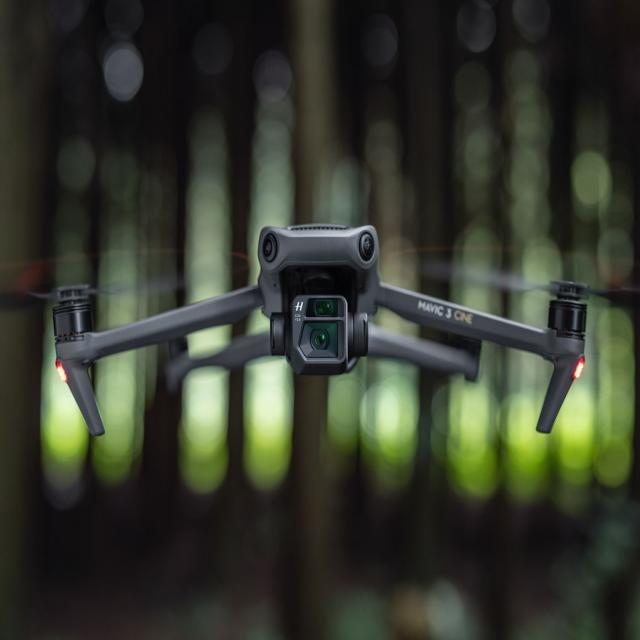drone: (41, 198, 610, 462)
